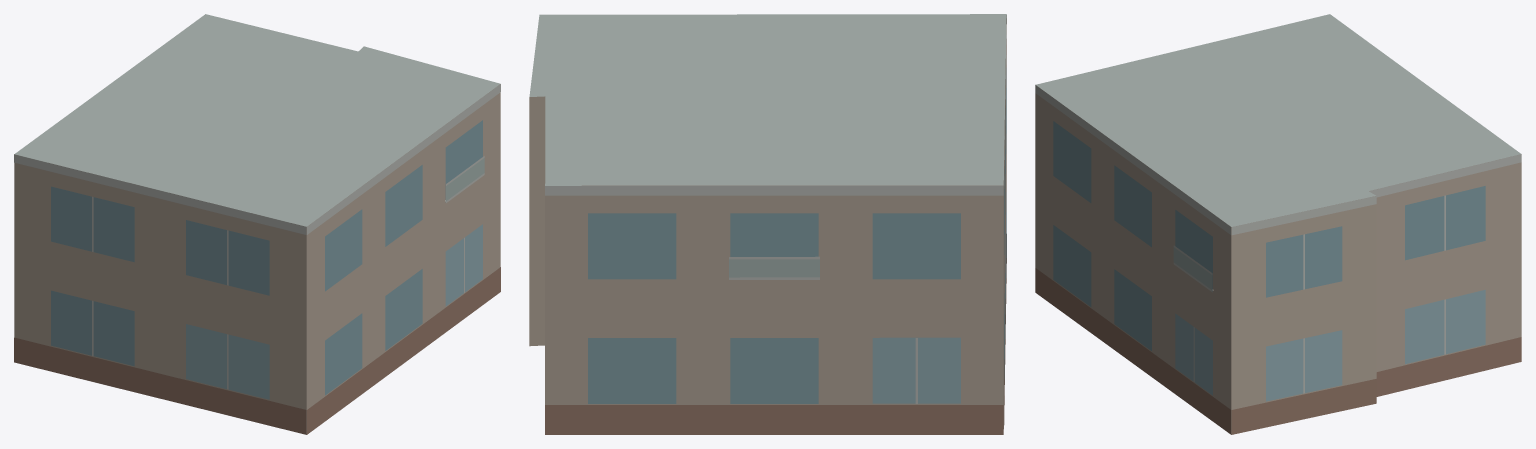
File: survey-upis-32695352.glb
3 views of the same model, side by side, from view 1: azimuth 30°, elevation 25°; view 2: azimuth 150°, elevation 25°; view 3: azimuth 270°, elevation 25° (orthographic). The views are drawn at different scales.
Visible parts, largest first — view 1: survey-upis-32695352.tmp; view 2: survey-upis-32695352.tmp; view 3: survey-upis-32695352.tmp.
Boxes of the visible parts, x1,y1,x2,y2 form: survey-upis-32695352.tmp: (14, 14, 500, 434); survey-upis-32695352.tmp: (529, 14, 1006, 434); survey-upis-32695352.tmp: (1035, 14, 1521, 434).
Size of the model in its own units: 13.43 by 6.1 by 12.94.
